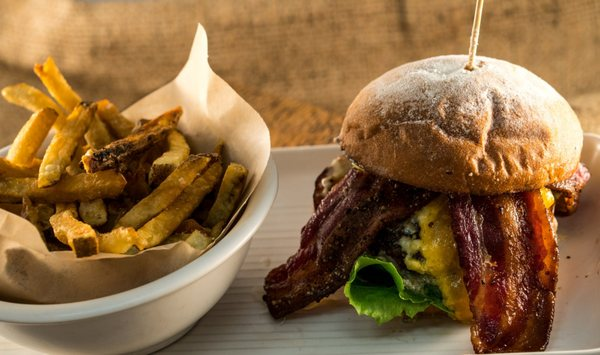soup: (262, 44, 592, 348)
sushi: (0, 28, 276, 339)
